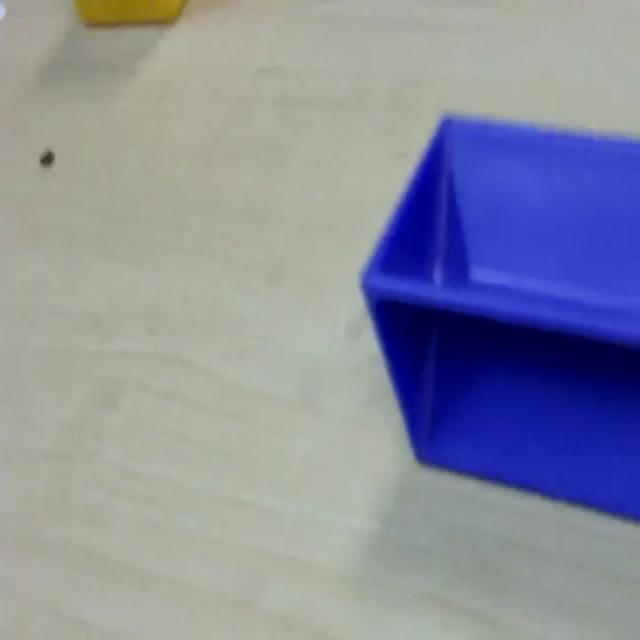blue_block: (358, 111, 638, 521)
yellow_block: (72, 0, 187, 27)
